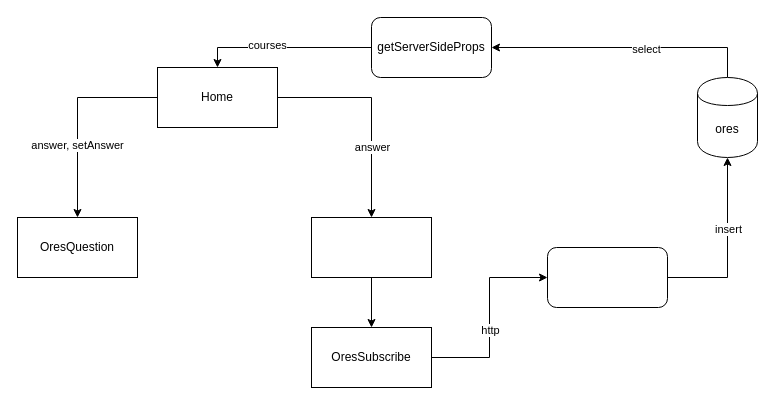
This 775x405 diagram has some shape labels left out. Each missing label, with the centre of its shape:
/api/subscribe: (607,277)
OresResponse: (371,247)
